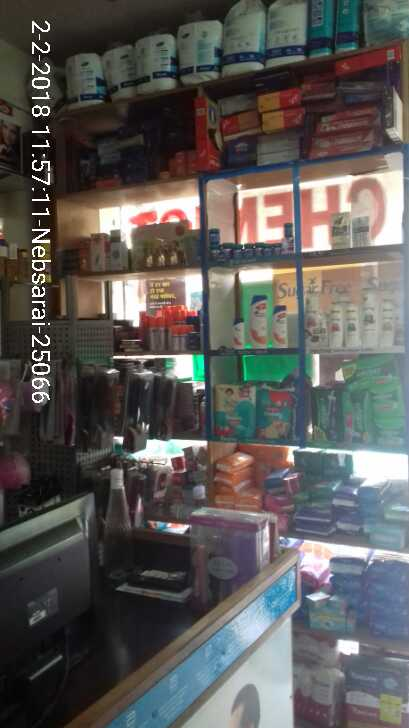vicks: (206, 217, 304, 265)
